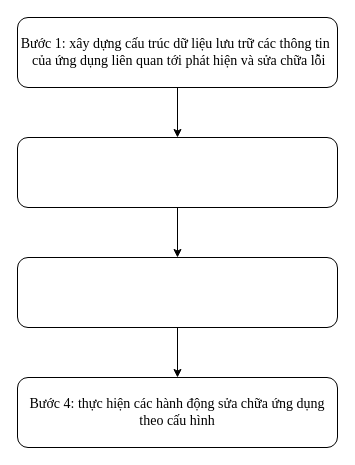
This 355x465 diagram has some shape labels left out. Each missing label, with the centre of its shape:
Bước 2: theo dõi hoạt động bất thường của ứng dụng: pixel 177 172
Bước 3: tìm nguyên nhân gốc gây lỗi ứng dụng: pixel 177 292
